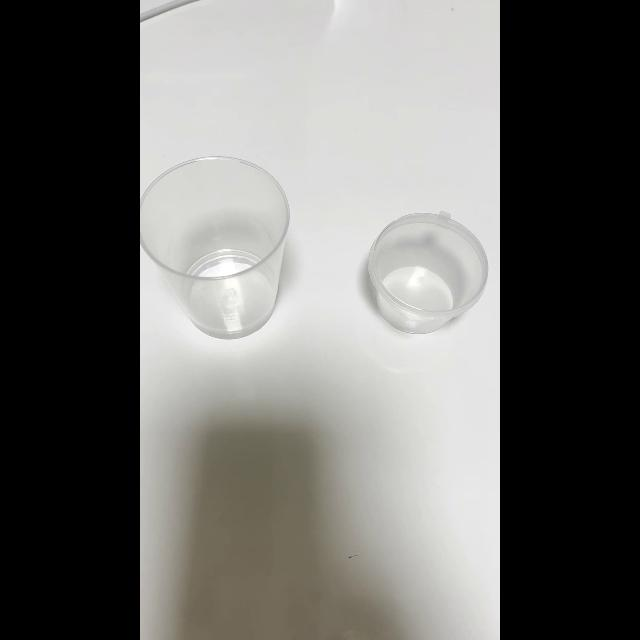clean: (141, 158, 291, 336), (368, 212, 488, 332)
